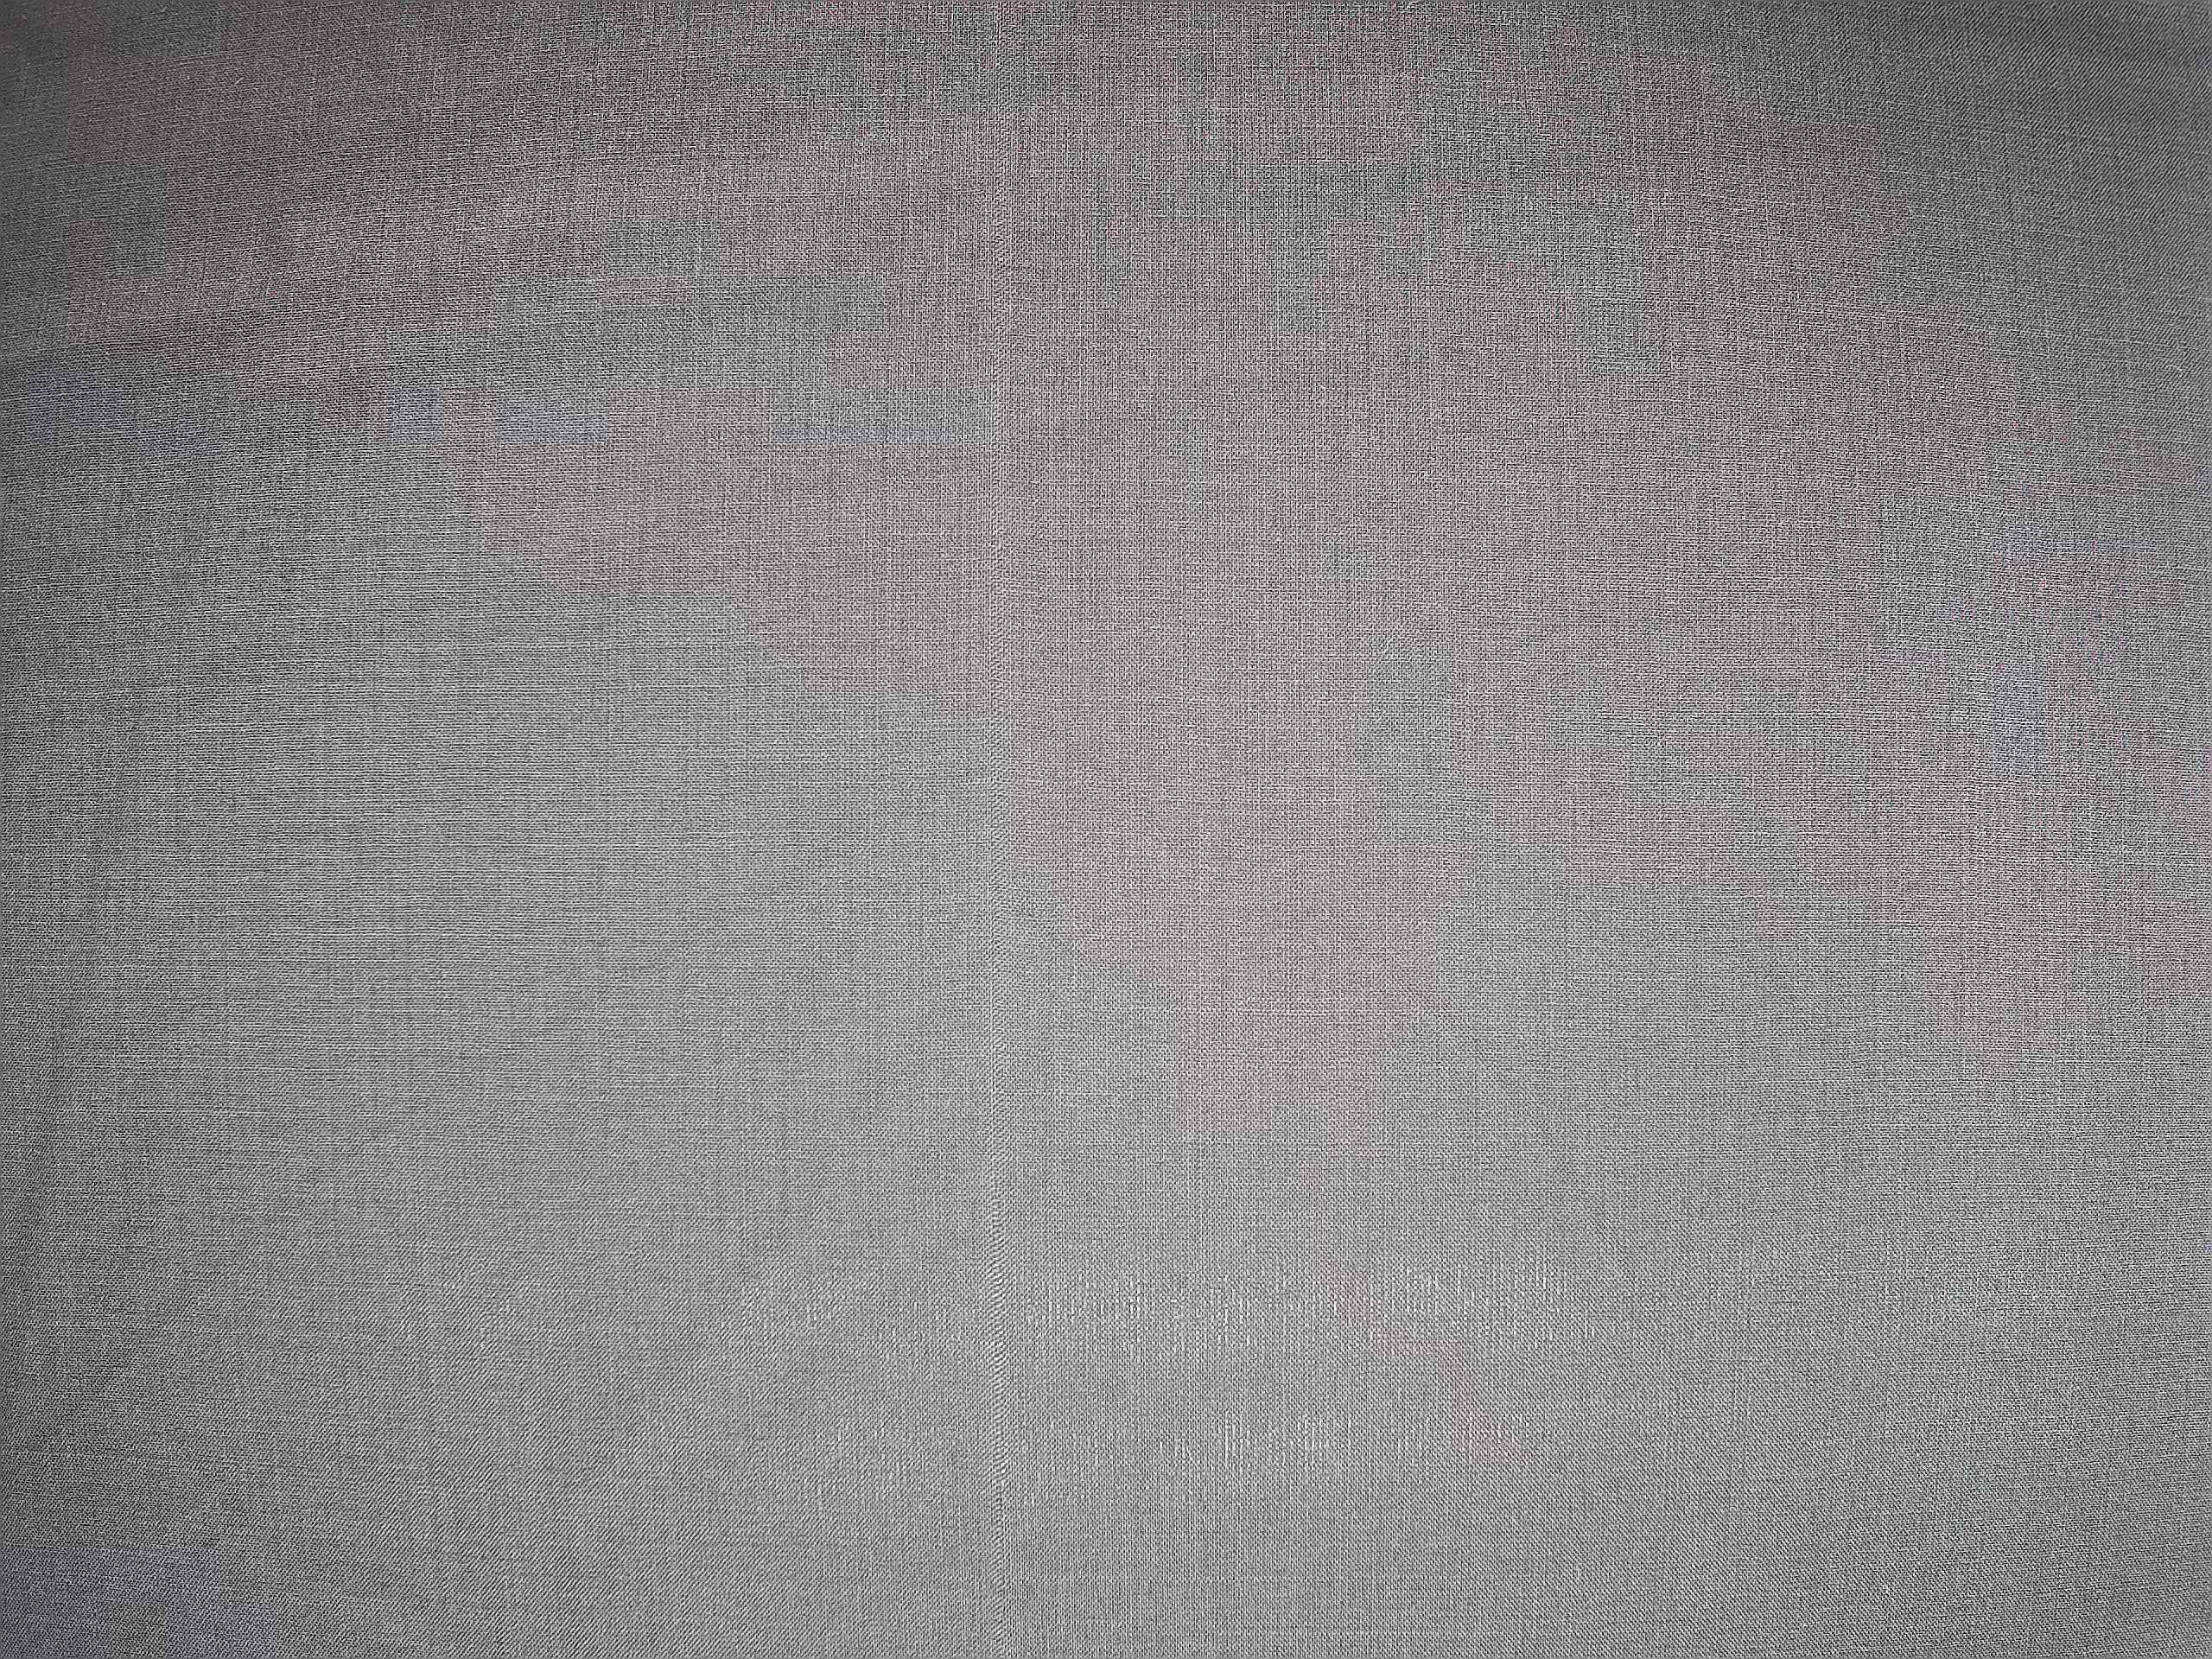hanging-warp: (967, 7, 1028, 1295)
